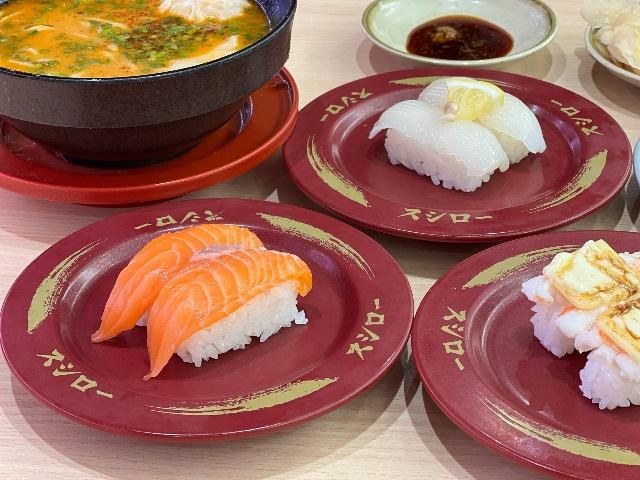janred: (3, 210, 391, 420), (385, 224, 640, 447), (284, 68, 614, 232), (8, 99, 292, 190)
